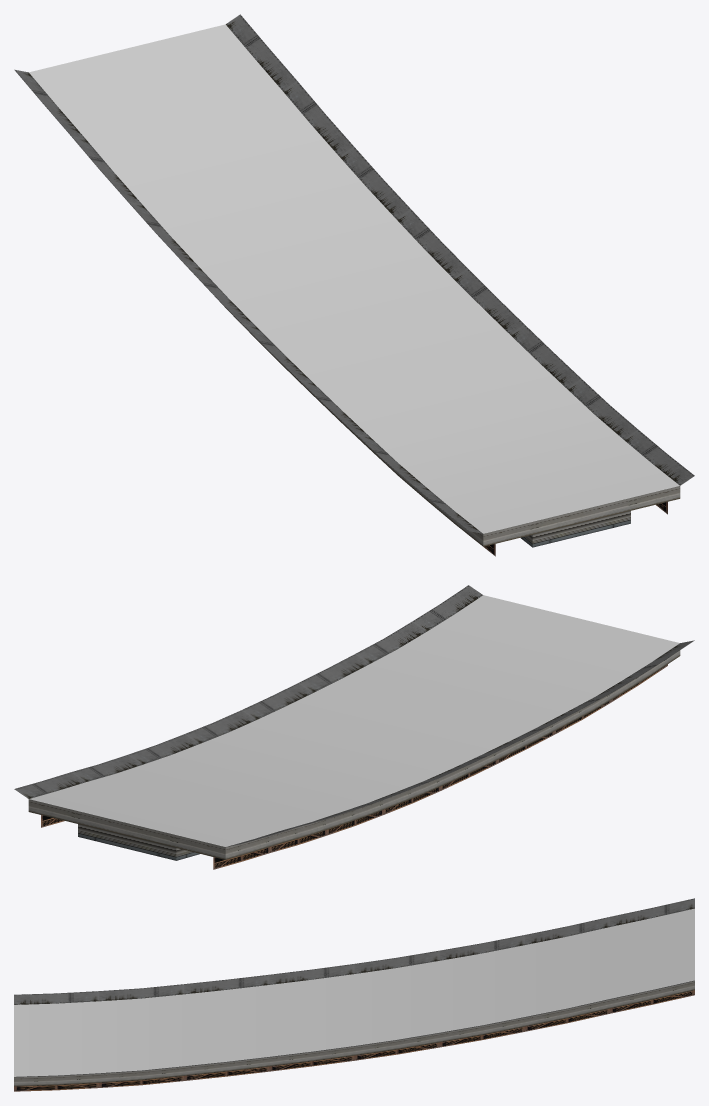
The model's file is TrackRamp03.fbx.
The picture shows the model from 3 angles, top to bottom: view 1: azimuth 30°, elevation 25°; view 2: azimuth 150°, elevation 25°; view 3: azimuth 270°, elevation 25°; orthographic projection. The views are drawn at different scales.
Visible parts, largest first — view 1: Empty_Mesh; view 2: Empty_Mesh; view 3: Empty_Mesh.
Boxes of the visible parts, <box> form: Empty_Mesh: <box>14,14,694,556</box>; Empty_Mesh: <box>14,585,694,869</box>; Empty_Mesh: <box>14,898,694,1091</box>.
Size of the model in its own units: 18.4 by 12.5 by 64.
